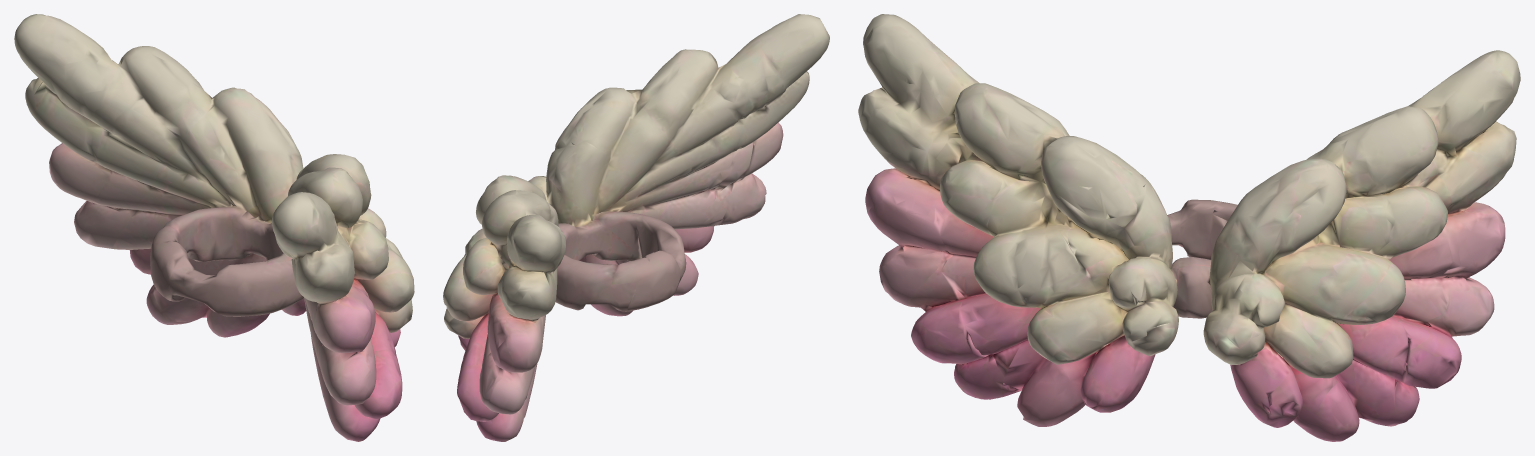
The model's file is acc_back_wings_01.glb.
3 renders of one model, left to right at view 1: azimuth 30°, elevation 25°; view 2: azimuth 150°, elevation 25°; view 3: azimuth 270°, elevation 25°, orthographic. The views are drawn at different scales.
Visible parts, largest first — view 1: acc_back_wings_01; view 2: acc_back_wings_01; view 3: acc_back_wings_01.
Part boxes in pixels (x1=…): acc_back_wings_01: x1=14, y1=14, x2=414, y2=441; acc_back_wings_01: x1=443, y1=14, x2=829, y2=441; acc_back_wings_01: x1=858, y1=14, x2=1520, y2=441.
Bounding box in the file's own units: 0.3432 × 0.45 × 0.769.
Materials: 1 (1 with a texture image).
